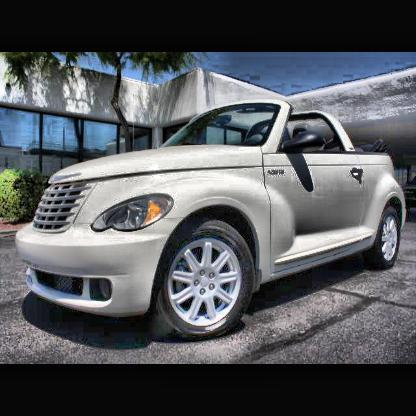Chrysler PT Cruiser Convertible 2008: (16, 97, 407, 345)
